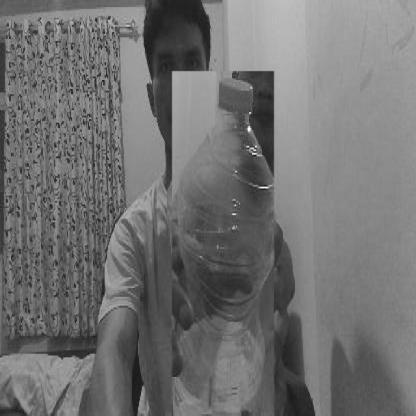plastic_bottles: (172, 71, 274, 416)
